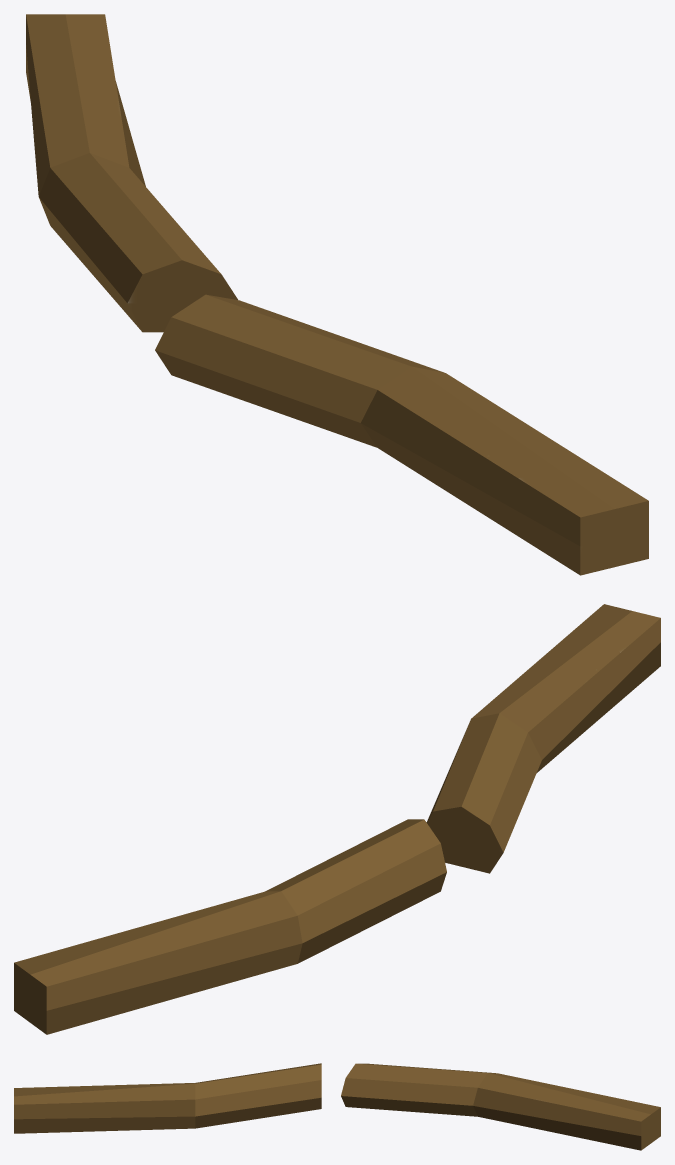
File: Broken Twig3.fbx
3 views of the same model, one above another, from view 1: azimuth 30°, elevation 25°; view 2: azimuth 150°, elevation 25°; view 3: azimuth 270°, elevation 25° (orthographic). The views are drawn at different scales.
Visible parts, largest first — view 1: Cube; view 2: Cube; view 3: Cube.
Boxes of the visible parts, <box> form: Cube: <box>26,14,648,575</box>; Cube: <box>14,604,660,1034</box>; Cube: <box>14,1063,660,1150</box>.
Bounding box in the file's own units: 53.04 × 15.02 × 220.
Materials: 1 (1 with a texture image).
